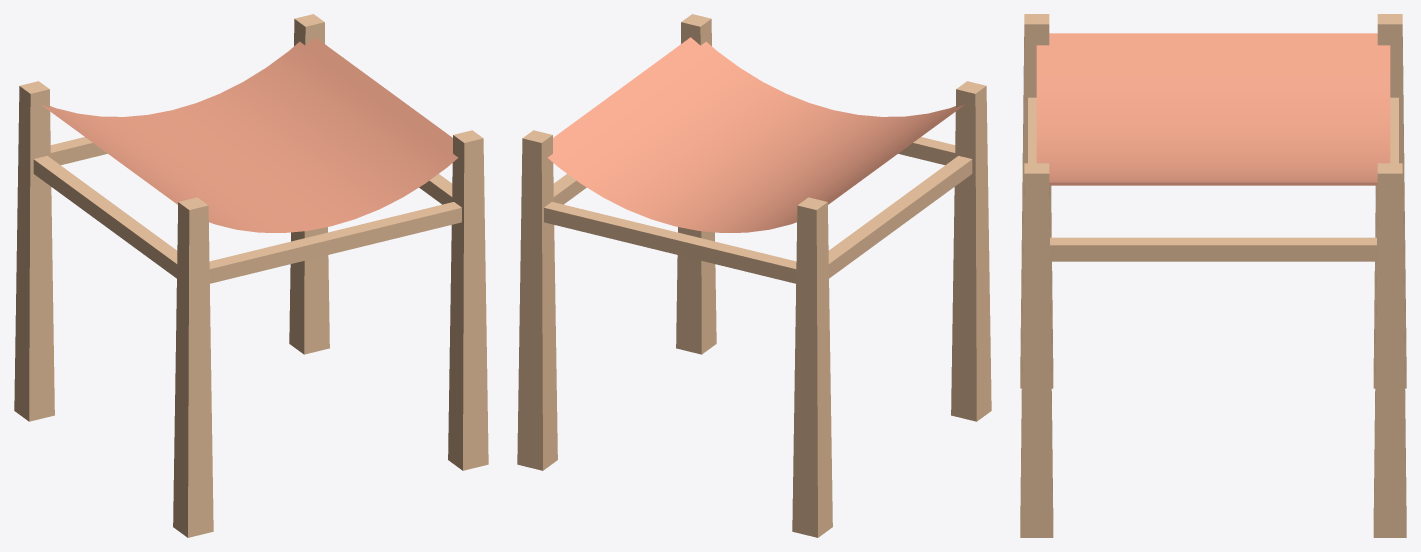
Rendered from structureCloth.glb.
3 views of the same model, side by side, from view 1: azimuth 30°, elevation 25°; view 2: azimuth 150°, elevation 25°; view 3: azimuth 270°, elevation 25° (orthographic). The views are drawn at different scales.
Visible parts, largest first — view 1: structureCloth; view 2: structureCloth; view 3: structureCloth.
Part boxes in pixels (<box>): structureCloth: <box>14,14,488,537</box>; structureCloth: <box>517,14,991,537</box>; structureCloth: <box>1020,14,1406,537</box>.
Size of the model in its own units: 2 by 2.07 by 2.
